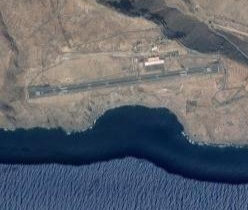airport: (25, 55, 220, 100)
motorway: (219, 33, 248, 59), (213, 86, 248, 105), (92, 28, 133, 44), (43, 34, 92, 44), (204, 12, 223, 35), (222, 19, 248, 34), (31, 18, 51, 35), (50, 1, 63, 25)
